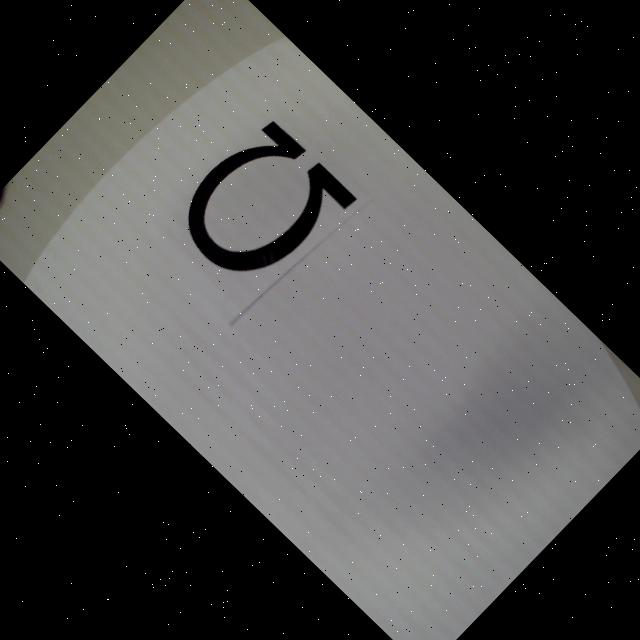OMEGA: (164, 111, 358, 306)
